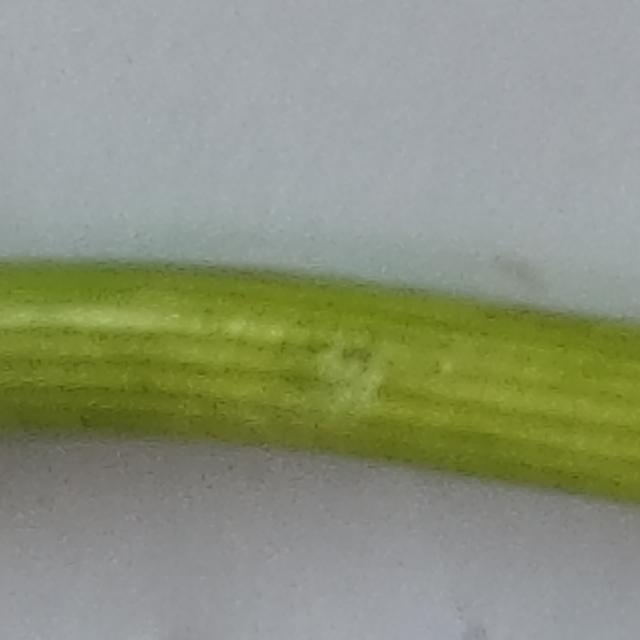green_onion: (0, 263, 640, 519)
